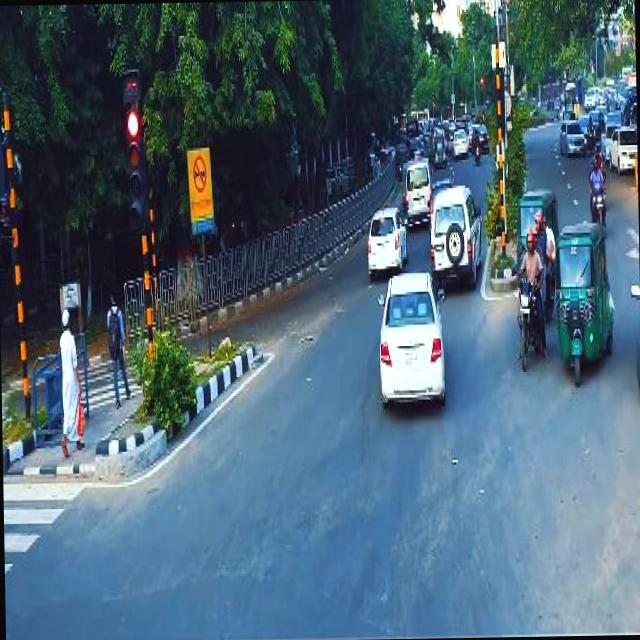car: (372, 265, 449, 412), (428, 178, 483, 288), (363, 200, 409, 281), (556, 116, 586, 160)
motorcycle: (552, 215, 613, 390), (508, 264, 542, 368), (584, 182, 608, 230), (432, 132, 446, 166)
truck: (402, 158, 434, 226)
